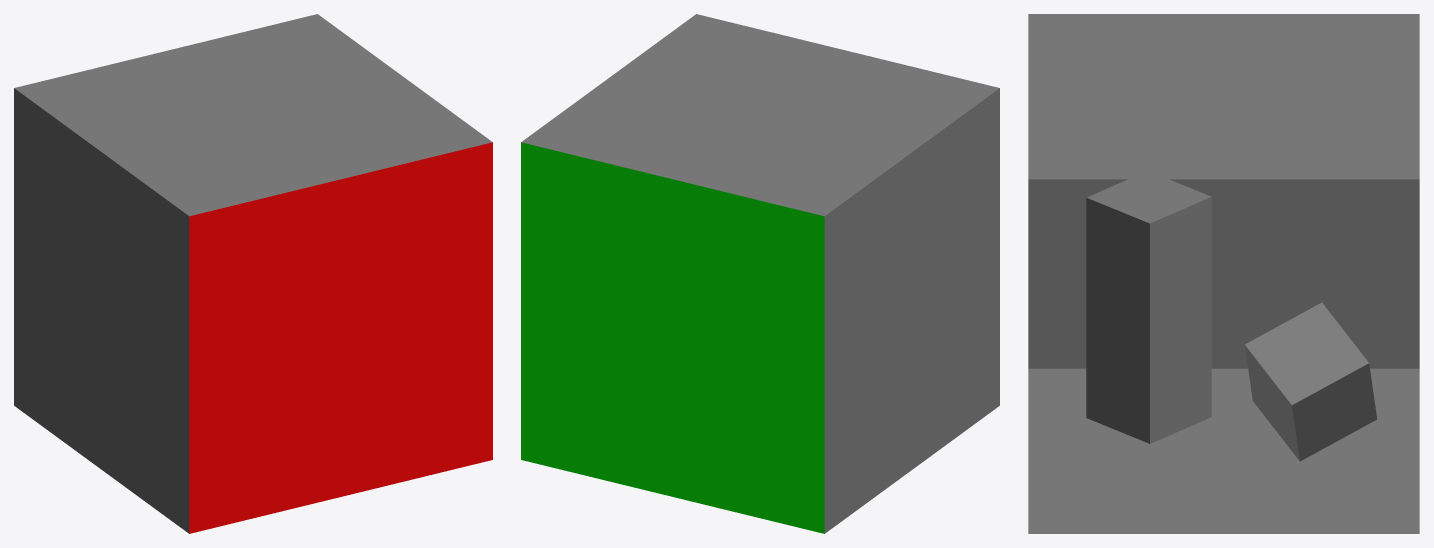
File: cornellBigBad.obj
The picture shows the model from 3 angles, left to right: view 1: azimuth 30°, elevation 25°; view 2: azimuth 150°, elevation 25°; view 3: azimuth 270°, elevation 25°; orthographic projection. The views are drawn at different scales.
Parts seen in each view (by area): view 1: group1 polySurface4, group1 polySurface3; view 2: group1 polySurface4, group1 polySurface2; view 3: group1 polySurface4, group1 pCube2, group1 pCube3.
Boxes of the visible parts, x1,y1,x2,y2 form: group1 polySurface4: (14, 14, 492, 533); group1 polySurface3: (189, 142, 492, 533); group1 polySurface4: (521, 14, 999, 533); group1 polySurface2: (521, 142, 824, 533); group1 polySurface4: (1028, 14, 1419, 533); group1 pCube2: (1086, 179, 1211, 443); group1 pCube3: (1245, 302, 1377, 461).
Bounding box in the file's own units: 107 × 107 × 107.
